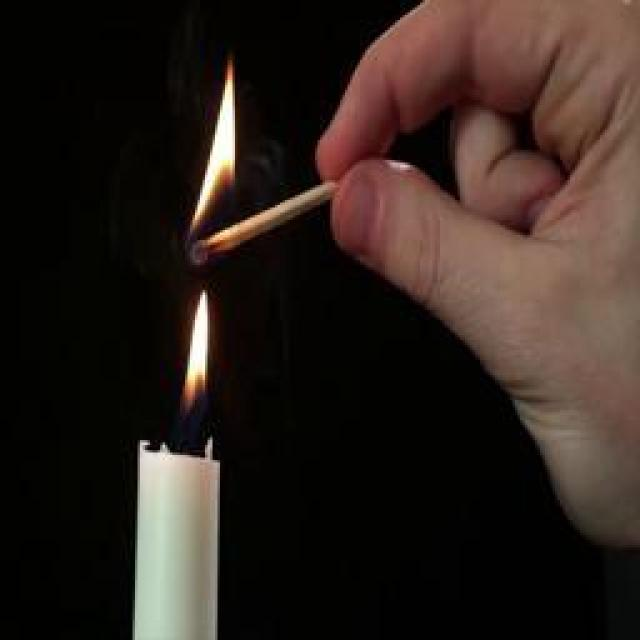Fire: (188, 65, 238, 235), (185, 290, 210, 410)
